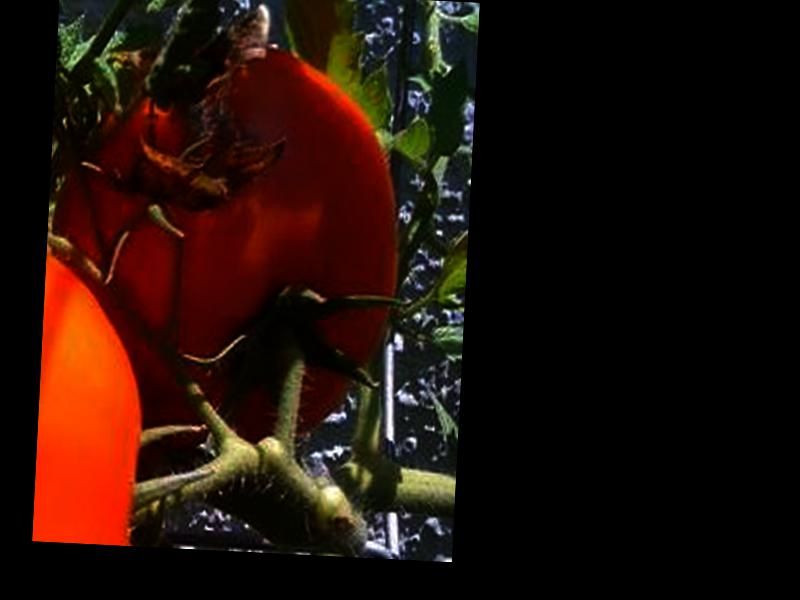Tomato: (49, 33, 409, 452)
